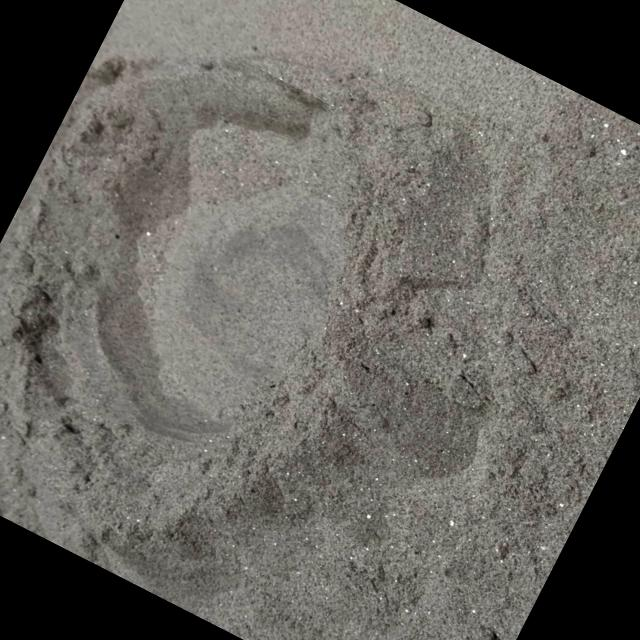C20: (16, 65, 345, 435)
